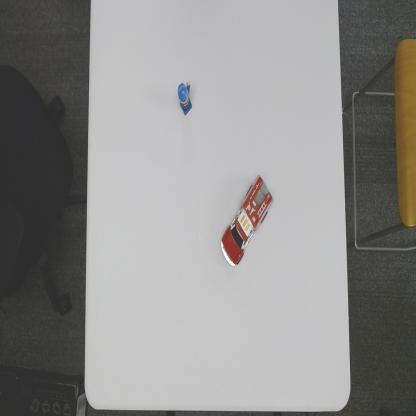Firetruck: (219, 174, 274, 272)
